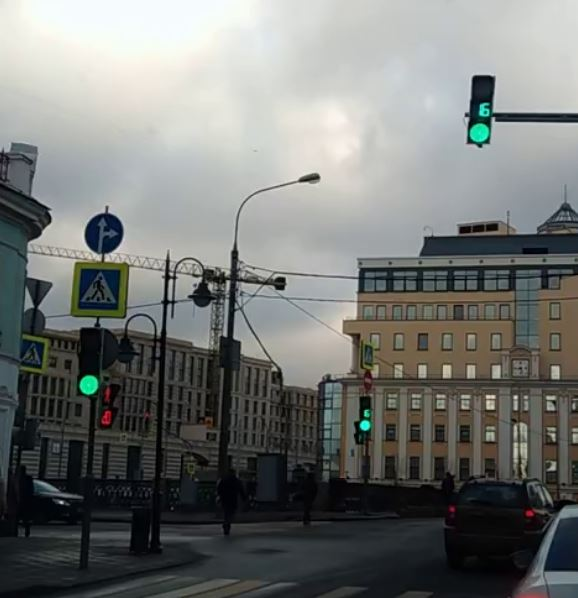Yaya Gecidi: (83, 269, 120, 311)
